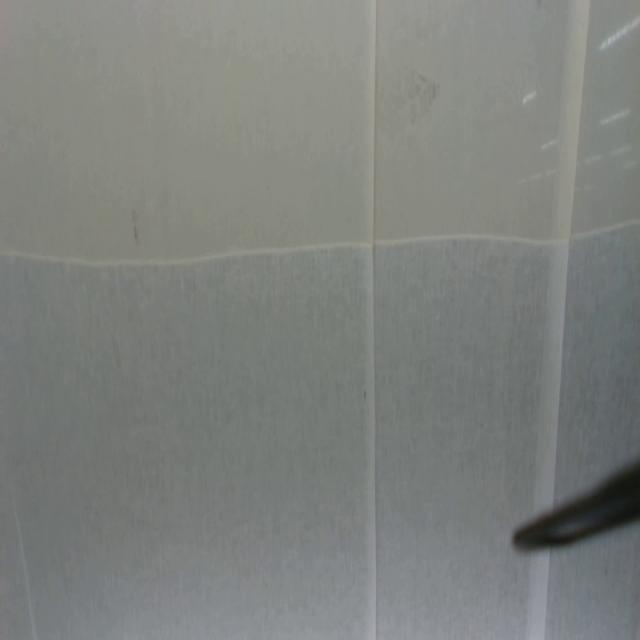hole: (362, 386, 369, 400)
